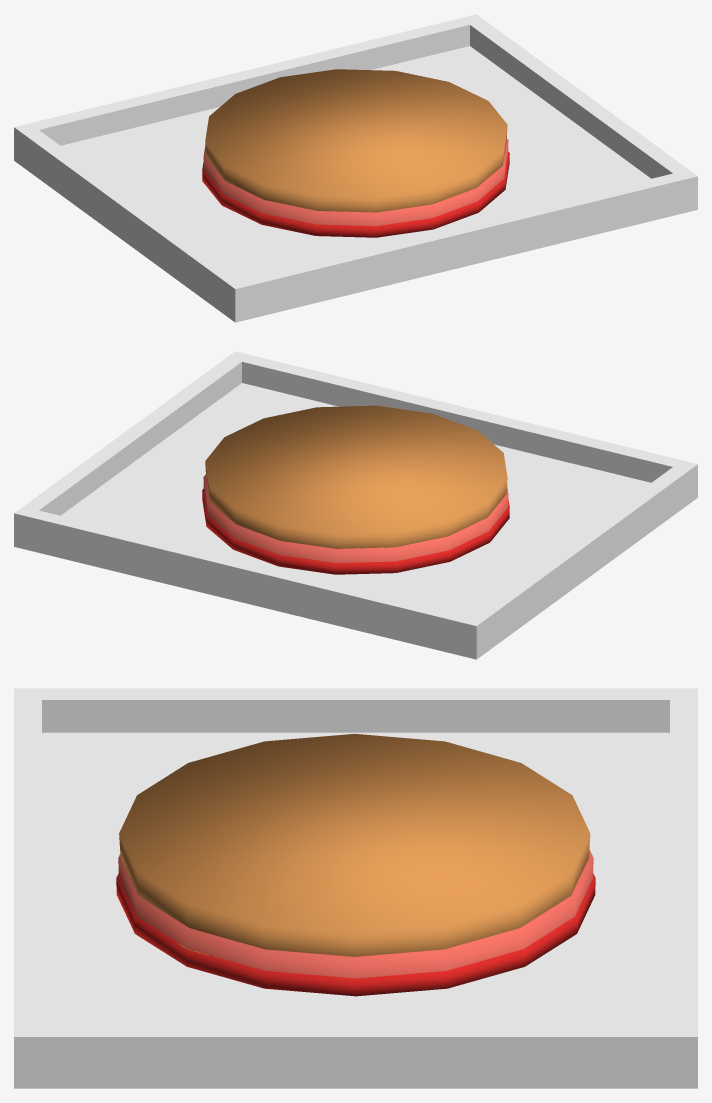
The model's file is burger2.glb.
3 views of the same model, one above another, from view 1: azimuth 30°, elevation 25°; view 2: azimuth 150°, elevation 25°; view 3: azimuth 270°, elevation 25° (orthographic). The views are drawn at different scales.
Parts seen in each view (by area): view 1: tray, bottom_bun, patty, tomato; view 2: tray, bottom_bun, patty, tomato; view 3: tray, bottom_bun, patty, tomato.
Boxes of the visible parts, x1,y1,x2,y2 form: tray: [14, 14, 697, 322]; bottom_bun: [205, 69, 507, 212]; patty: [203, 138, 508, 226]; tomato: [202, 151, 509, 237]; tray: [14, 351, 697, 659]; bottom_bun: [205, 405, 507, 548]; patty: [203, 474, 508, 563]; tomato: [202, 488, 509, 574]; tray: [14, 688, 697, 1088]; bottom_bun: [119, 733, 590, 956]; patty: [118, 849, 593, 978]; tomato: [116, 874, 595, 996].
Bounding box in the file's own units: 1.09 × 0.1802 × 0.9015.
